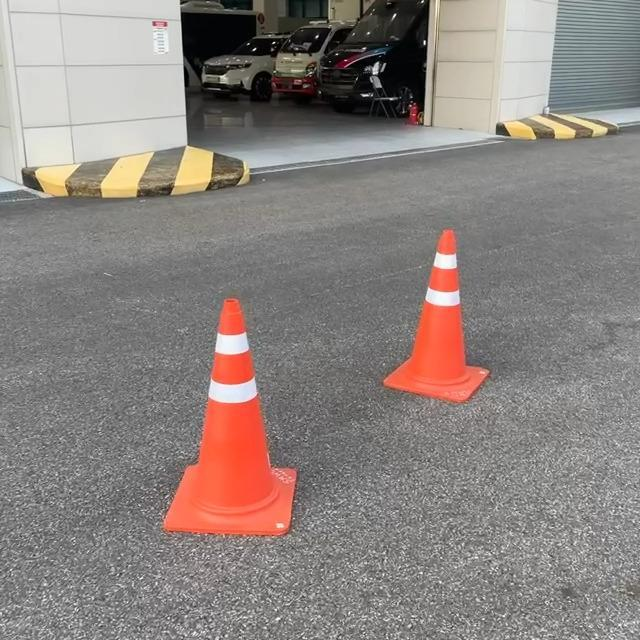fallen_object: (133, 283, 328, 568), (355, 215, 515, 445)
